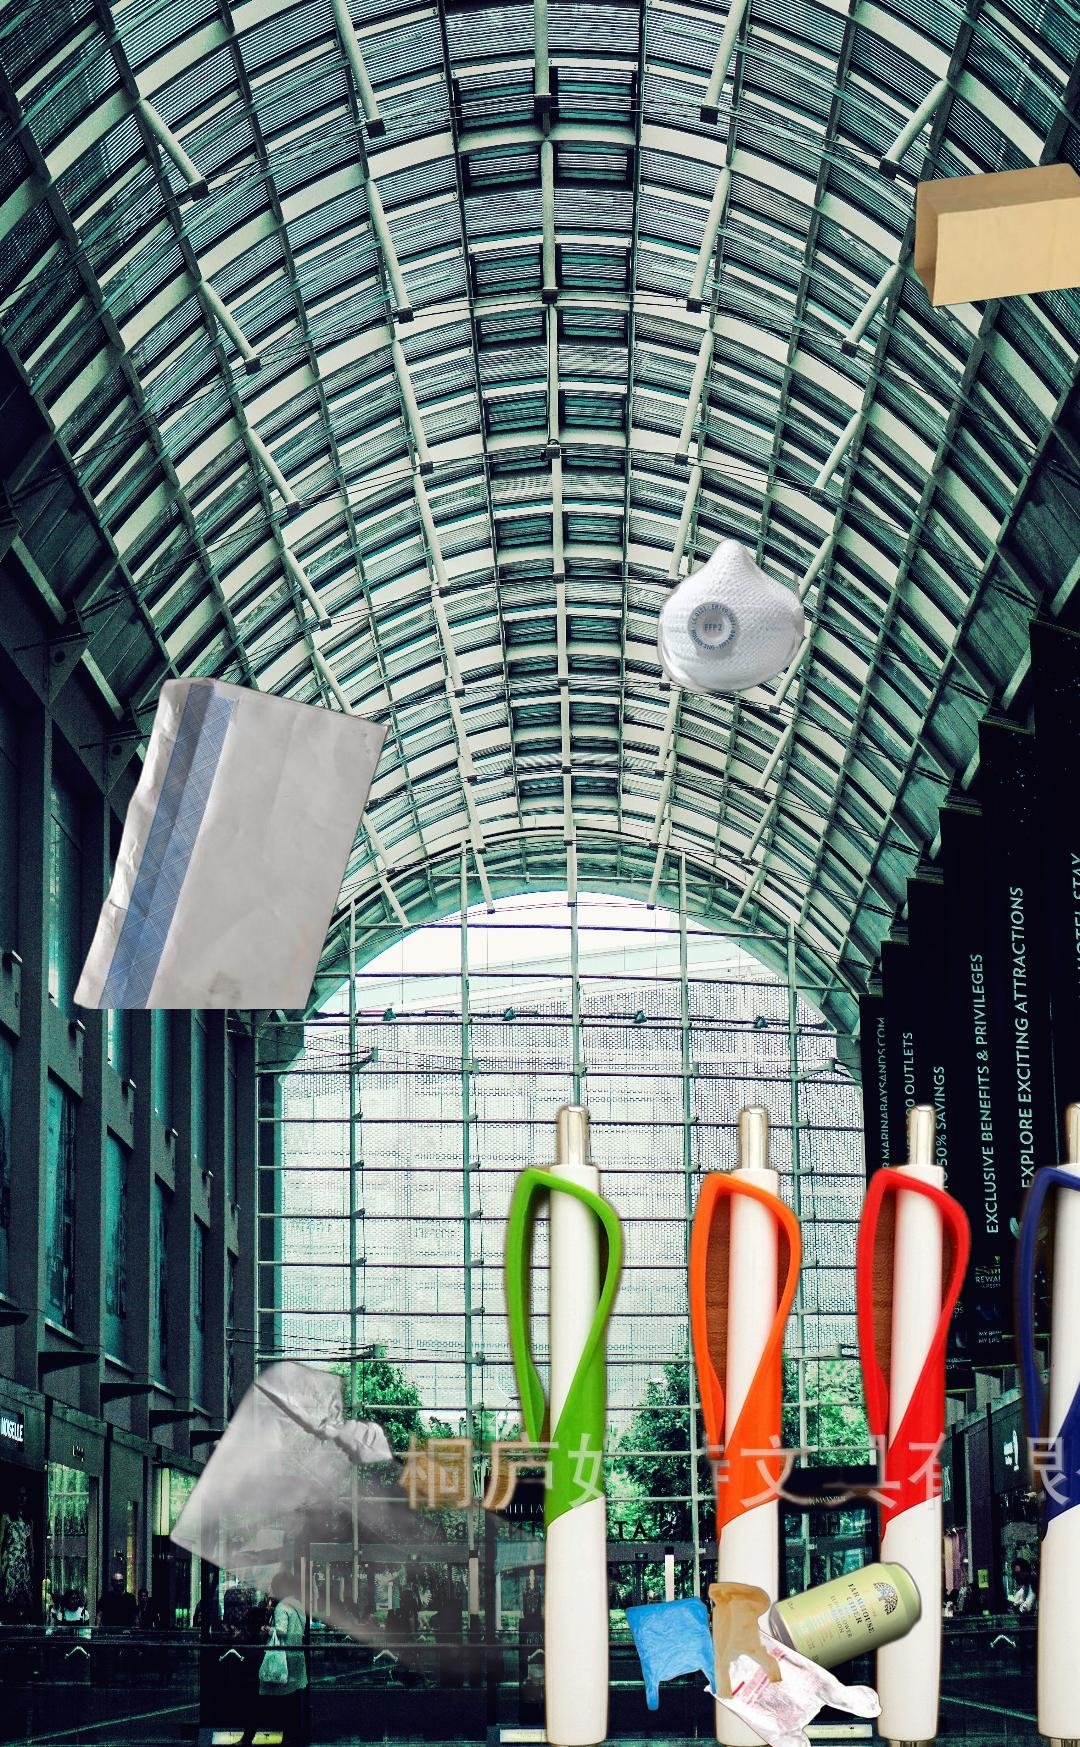metal-cans: (764, 1556, 926, 1687)
paper: (129, 1354, 628, 1703), (69, 673, 396, 1010)
paper-bag: (910, 161, 1080, 309)
penholder: (388, 1093, 1080, 1747)
plastic-bag: (622, 1579, 885, 1747)
trash: (644, 474, 807, 698)
